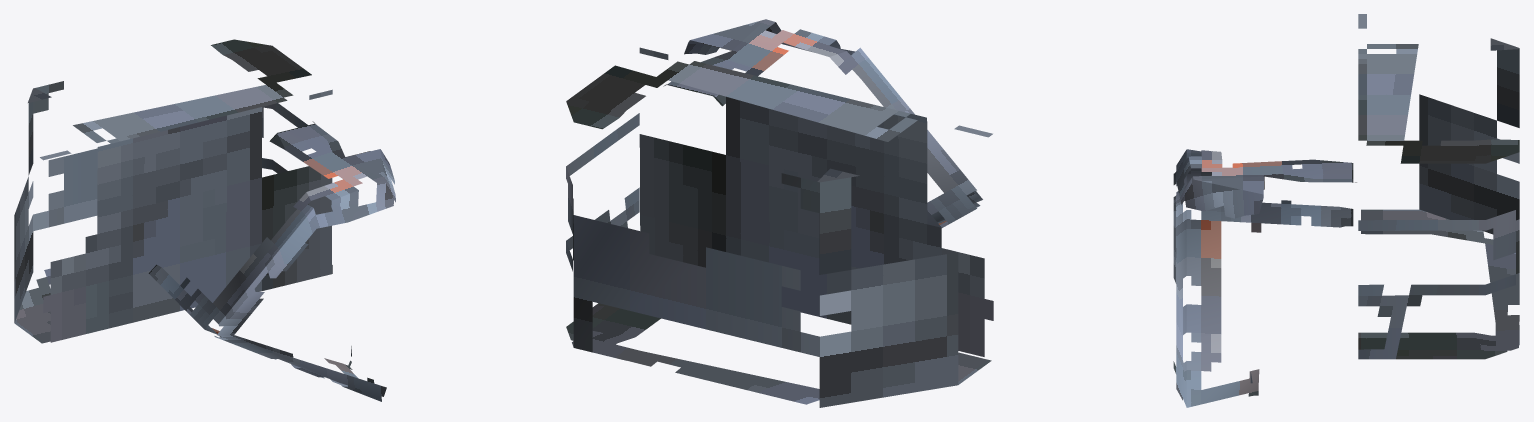
The model's file is eqp_motor_small_s02_l3.fbx.
The picture shows the model from 3 angles, left to right: view 1: azimuth 30°, elevation 25°; view 2: azimuth 150°, elevation 25°; view 3: azimuth 270°, elevation 25°; orthographic projection. The views are drawn at different scales.
Parts seen in each view (by area): view 1: mesh_node; view 2: mesh_node; view 3: mesh_node.
Boxes of the visible parts, x1,y1,x2,y2 form: mesh_node: (14, 39, 395, 401); mesh_node: (566, 19, 993, 407); mesh_node: (1173, 14, 1519, 407).
Size of the model in its own units: 0.3104 by 0.234 by 0.3738.
